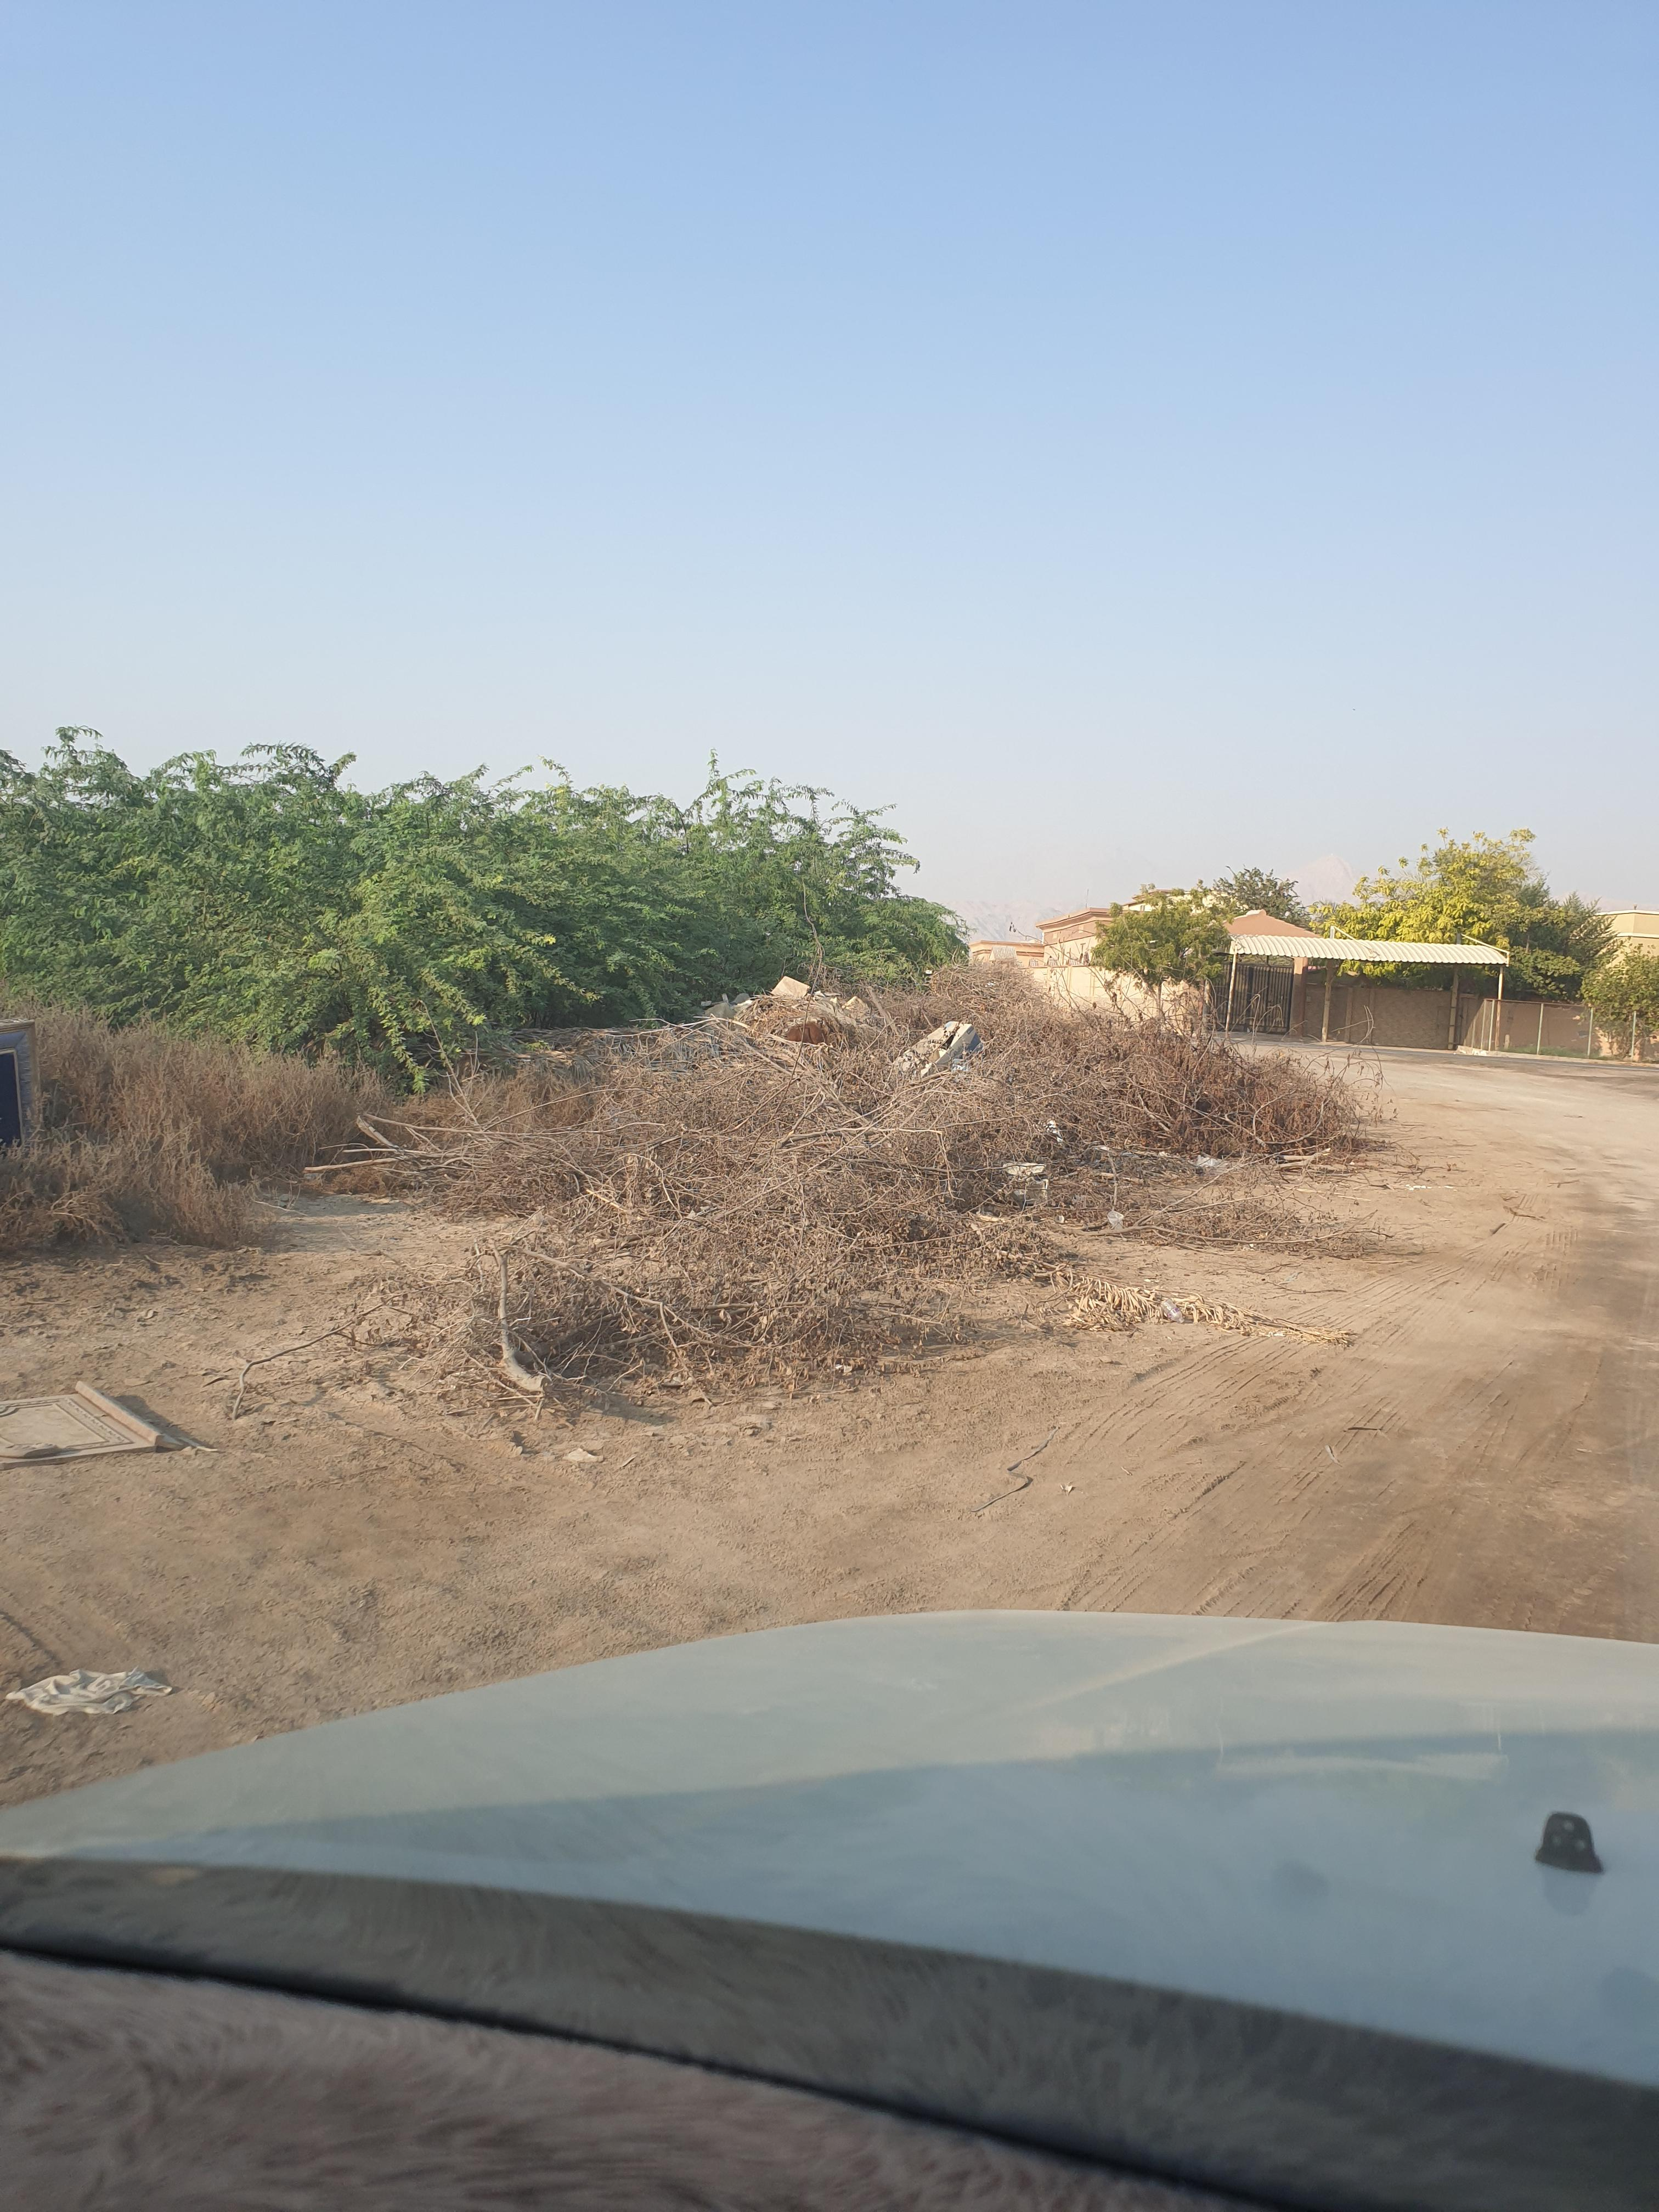fallen_trees: (1049, 1242, 1405, 1385), (423, 1263, 650, 1418)
